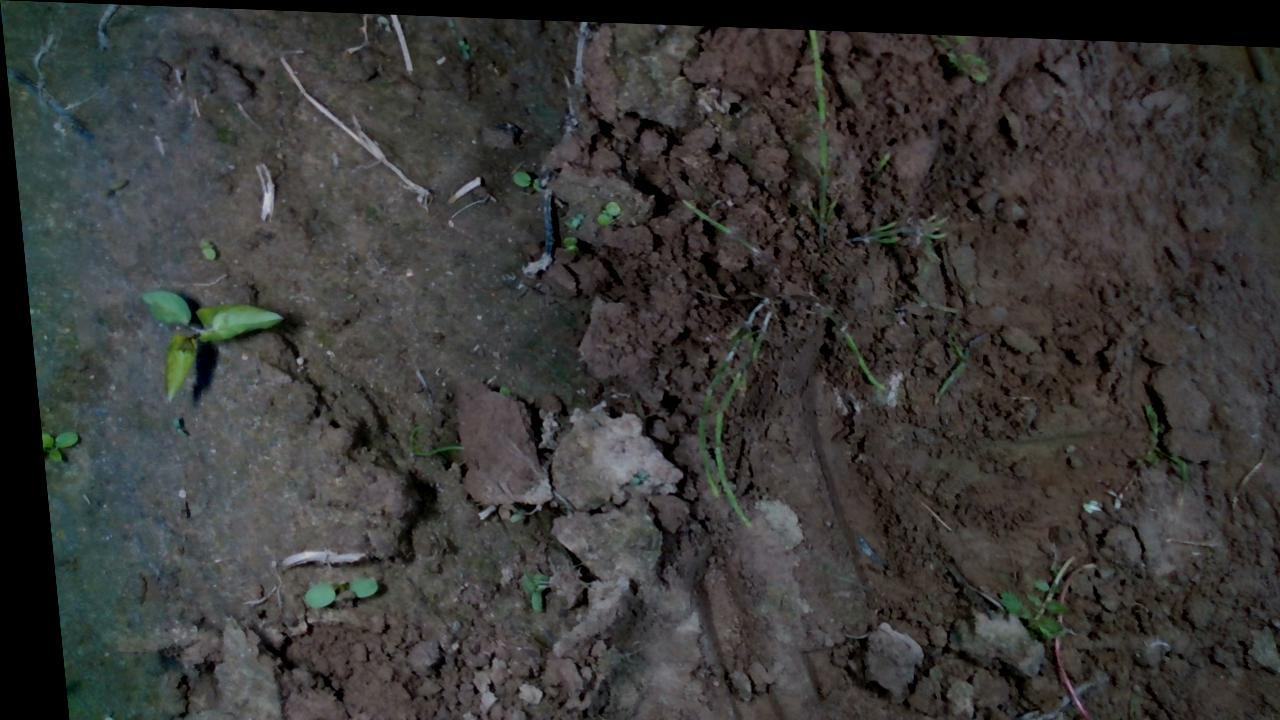weed: (287, 567, 368, 608), (507, 166, 544, 188), (590, 193, 618, 221), (192, 235, 214, 260), (555, 230, 576, 249)
